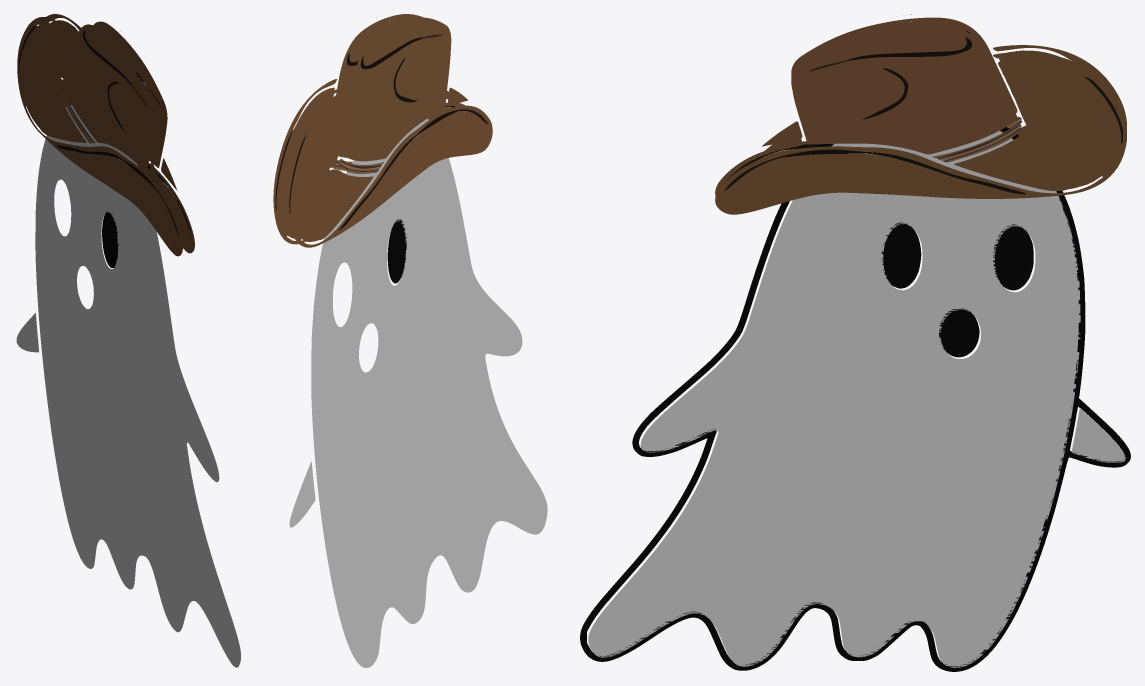
The model's file is ghost_cowboy_animation.glb.
The picture shows the model from 3 angles, left to right: view 1: azimuth 30°, elevation 25°; view 2: azimuth 150°, elevation 25°; view 3: azimuth 270°, elevation 25°; orthographic projection. The views are drawn at different scales.
Parts seen in each view (by area): view 1: ghost, hat; view 2: ghost, hat; view 3: ghost, hat.
Boxes of the visible parts, x1=… form: ghost: x1=16, y1=105, x2=240, y2=667; hat: x1=17, y1=14, x2=194, y2=256; ghost: x1=289, y1=118, x2=547, y2=667; hat: x1=273, y1=14, x2=492, y2=247; ghost: x1=580, y1=127, x2=1130, y2=671; hat: x1=715, y1=14, x2=1126, y2=214.
Size of the model in its own units: 0.3894 by 10.05 by 7.61.
